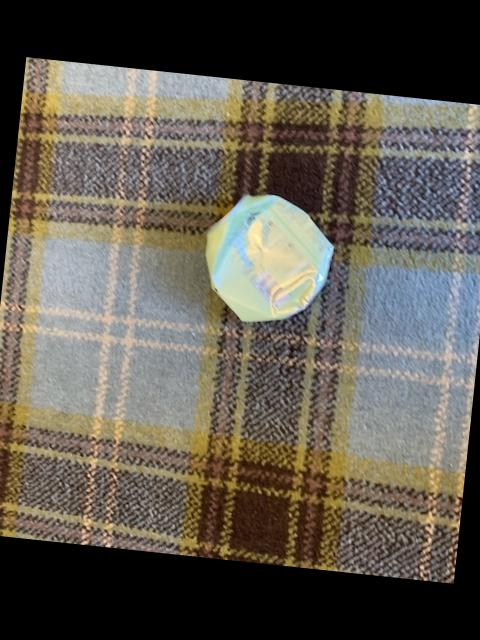metal: (207, 196, 335, 322)
